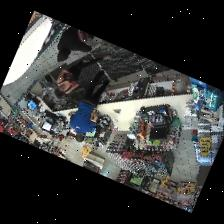person: (70, 68, 110, 141), (55, 54, 111, 98), (58, 26, 94, 61)
